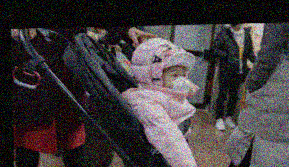with_mask: (162, 65, 190, 101)
